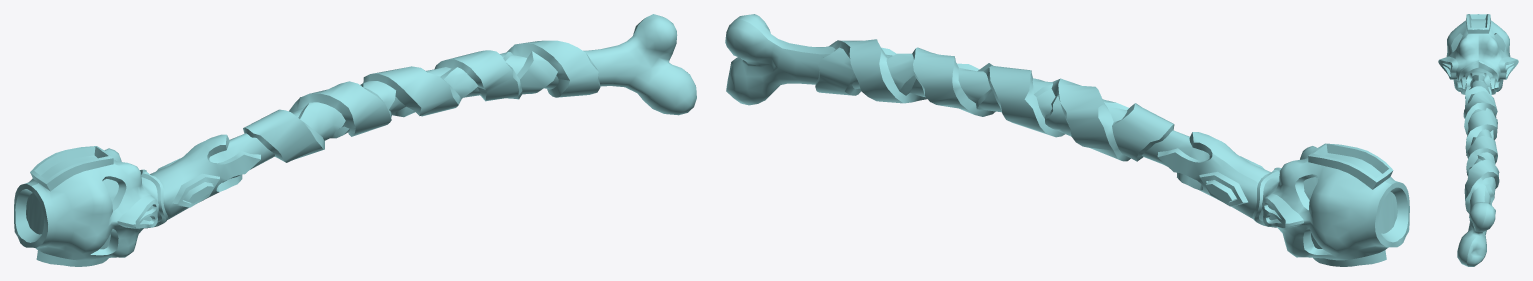
File: SM_Undead_Scythe_8.fbx
3 renders of one model, left to right at view 1: azimuth 30°, elevation 25°; view 2: azimuth 150°, elevation 25°; view 3: azimuth 270°, elevation 25°, orthographic. The views are drawn at different scales.
Visible parts, largest first — view 1: SM_Undead_Scythe_8; view 2: SM_Undead_Scythe_8; view 3: SM_Undead_Scythe_8.
Part boxes in pixels (x1,y1,x2,y2): SM_Undead_Scythe_8: (14,14,696,266); SM_Undead_Scythe_8: (725,14,1409,266); SM_Undead_Scythe_8: (1438,14,1518,266).
Size of the model in its own units: 0.9049 by 0.147 by 0.1486.
